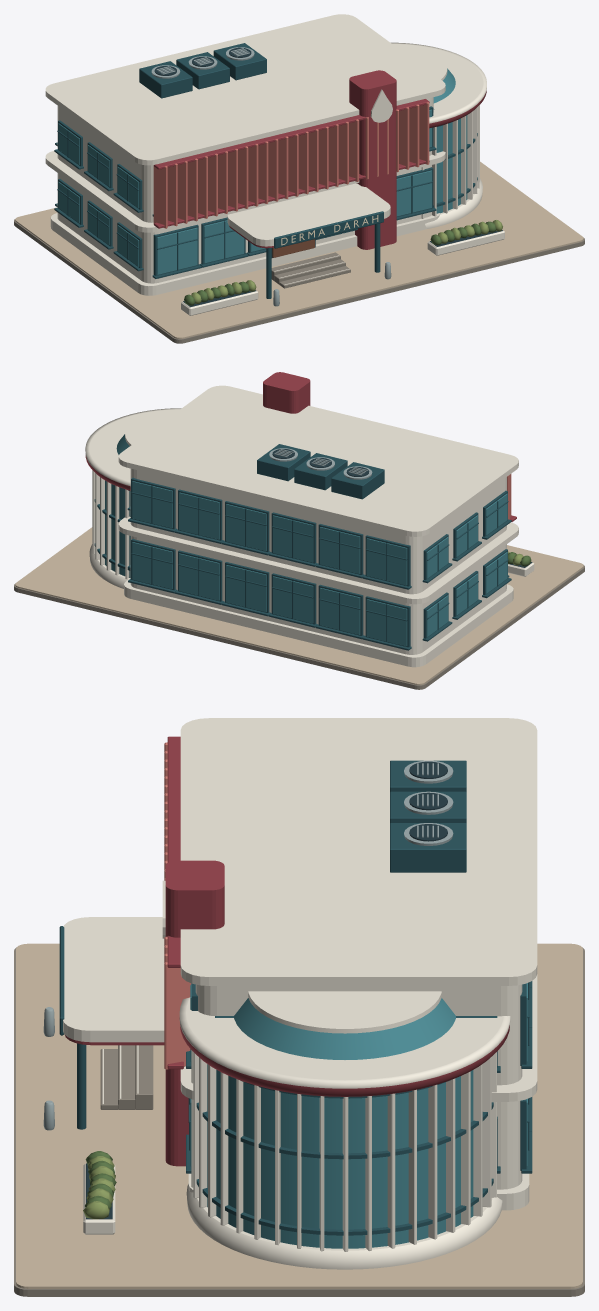
The picture shows the model from 3 angles, top to bottom: view 1: azimuth 30°, elevation 25°; view 2: azimuth 150°, elevation 25°; view 3: azimuth 270°, elevation 25°; orthographic projection. The views are drawn at different scales.
Visible parts, largest first — view 1: Laboratory Wing, Arrival Court, Registration Porch, Donor Lounge, Roof Plant; view 2: Laboratory Wing, Arrival Court, Donor Lounge, Roof Plant, Registration Porch; view 3: Laboratory Wing, Donor Lounge, Arrival Court, Registration Porch, Roof Plant.
Boxes of the visible parts, box(x1,y1,x2,y2) form: Laboratory Wing: box(45, 14, 445, 295); Arrival Court: box(14, 161, 584, 343); Registration Porch: box(227, 70, 396, 298); Donor Lounge: box(391, 42, 486, 228); Roof Plant: box(139, 43, 266, 98); Laboratory Wing: box(118, 385, 518, 667); Arrival Court: box(14, 527, 584, 689); Donor Lounge: box(85, 408, 181, 588); Roof Plant: box(257, 444, 384, 499); Registration Porch: box(263, 372, 310, 413); Laboratory Wing: box(164, 718, 537, 1210); Donor Lounge: box(179, 991, 510, 1269); Arrival Court: box(14, 943, 584, 1296); Registration Porch: box(59, 860, 224, 1166); Roof Plant: box(390, 760, 466, 872).
Size of the model in its own units: 24 by 9.26 by 16.8.
